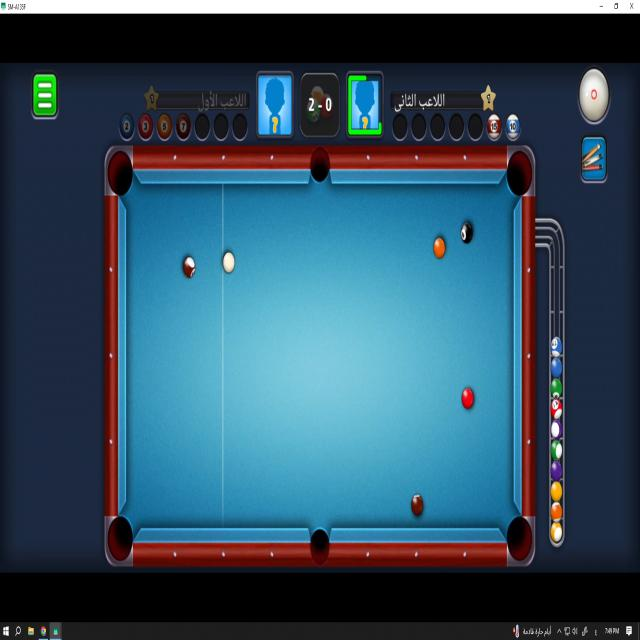object_ball: (461, 223, 472, 243), (412, 495, 423, 515), (462, 388, 473, 408), (434, 238, 444, 258), (184, 257, 194, 277)
white_cue_ball: (223, 252, 234, 273)
